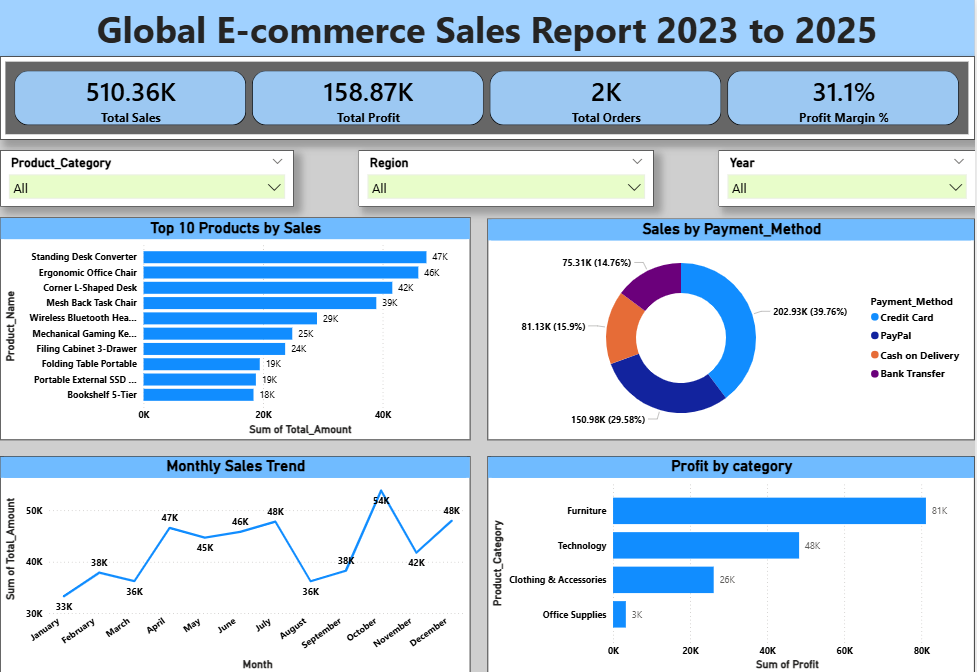

The dashboard page shown, as its layout file describes it:
{"tool":"powerbi","page":{"name":"Page 1","canvas":[1300,900],"ordinal":0},"visuals":[{"type":"textbox","box":[0,0,1299.3,74.9],"z":0},{"type":"cardVisual","fields":{"Data":["Sum(global_ecommerce_sales.Total_Selling_Amount)","Sum(global_ecommerce_sales.Profit)","Count(global_ecommerce_sales.Order_ID)","global_ecommerce_sales.Profit Margine %"]},"box":[0,75.4,1299.9,111.6],"z":1000},{"type":"slicer","fields":{"Values":["global_ecommerce_sales.Product_Category"]},"box":[0,200.6,392.1,75.4],"z":2000},{"type":"slicer","fields":{"Values":["global_ecommerce_sales.Region"]},"box":[478.1,200.6,393.6,75.4],"z":3000},{"type":"slicer","fields":{"Values":["global_ecommerce_sales.Order_Date.Variation.Date Hierarchy.Year"]},"box":[957.6,200.6,342.3,75.4],"z":4000},{"type":"clusteredBarChart","title":"Top 10 Products by Sales","fields":{"Category":["global_ecommerce_sales.Product_Name"],"Y":["Sum(global_ecommerce_sales.Total_Amount)"]},"box":[0,289.5,723.9,297.1],"z":5000},{"type":"donutChart","title":"Sales by Payment_Method","fields":{"Category":["global_ecommerce_sales.Payment_Method"],"Y":["Sum(global_ecommerce_sales.Total_Selling_Amount)"]},"box":[738.9,291.1,561,295.6],"z":6000},{"type":"lineChart","title":"Monthly Sales Trend","fields":{"Category":["global_ecommerce_sales.Order_Date.Variation.Date Hierarchy.Month"],"Y":["Sum(global_ecommerce_sales.Total_Amount)"]},"box":[0,597.2,639.4,303.1],"z":7000},{"type":"barChart","title":"Profit by category","fields":{"Category":["global_ecommerce_sales.Product_Category"],"Y":["Sum(global_ecommerce_sales.Profit)"]},"box":[650,597.2,650,303.1],"z":8000}]}

Visuals, with their boxes in screenshot pixels (x1, y1, x2, y2), scaled from the page's 1300x900 canvas onto the 977x672 screenshot:
textbox: (x1=0, y1=0, x2=976, y2=56)
cardVisual - Sum(global_ecommerce_sales.Total_Selling_Amount) x Sum(global_ecommerce_sales.Profit): (x1=0, y1=56, x2=976, y2=140)
slicer - global_ecommerce_sales.Product_Category: (x1=0, y1=150, x2=295, y2=206)
slicer - global_ecommerce_sales.Region: (x1=359, y1=150, x2=655, y2=206)
slicer - global_ecommerce_sales.Order_Date.Variation.Date Hierarchy.Year: (x1=720, y1=150, x2=976, y2=206)
"Top 10 Products by Sales" clusteredBarChart: (x1=0, y1=216, x2=544, y2=438)
"Sales by Payment_Method" donutChart: (x1=555, y1=217, x2=976, y2=438)
"Monthly Sales Trend" lineChart: (x1=0, y1=446, x2=481, y2=671)
"Profit by category" barChart: (x1=488, y1=446, x2=976, y2=671)
